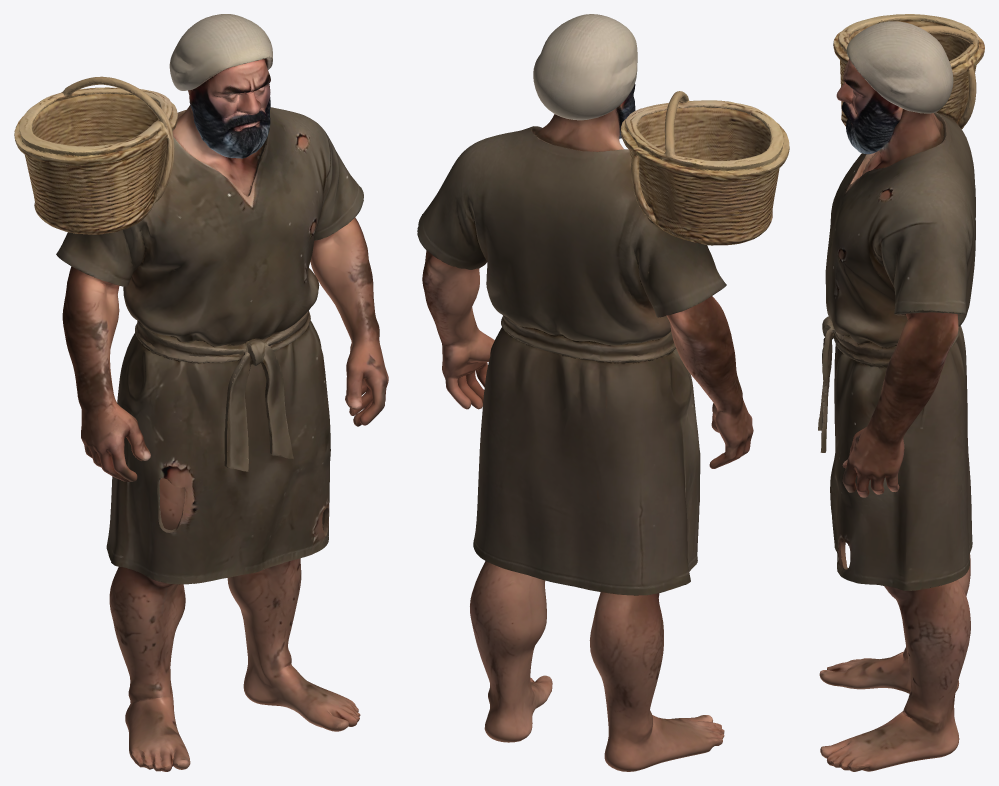
The model's file is schiavo2.glb.
The picture shows the model from 3 angles, left to right: view 1: azimuth 30°, elevation 25°; view 2: azimuth 150°, elevation 25°; view 3: azimuth 270°, elevation 25°; orthographic projection. The views are drawn at different scales.
Parts seen in each view (by area): view 1: model; view 2: model; view 3: model.
Part boxes in pixels (bbox=[...]): model: bbox=[14, 14, 388, 771]; model: bbox=[417, 14, 789, 771]; model: bbox=[818, 14, 984, 771].
Bounding box in the file's own units: 0.8796 × 1.72 × 0.3727.
Materials: 1 (1 with a texture image).
